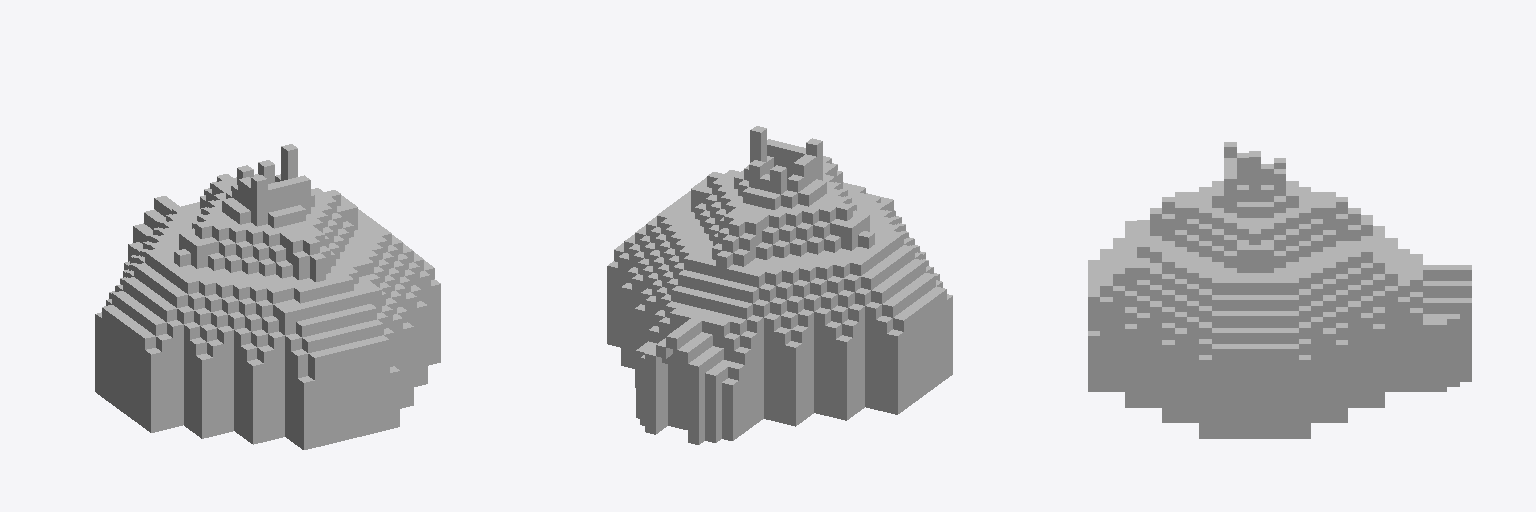
File: hata.obj
3 renders of one model, left to right at view 1: azimuth 30°, elevation 25°; view 2: azimuth 150°, elevation 25°; view 3: azimuth 270°, elevation 25°, orthographic.
Visible parts, largest first — view 1: object 1; view 2: object 1; view 3: object 1.
Part boxes in pixels (bbox=[...]): object 1: bbox=[95, 144, 440, 449]; object 1: bbox=[607, 126, 952, 444]; object 1: bbox=[1088, 142, 1471, 438].
Size of the model in its own units: 2.7 by 2 by 3.1.